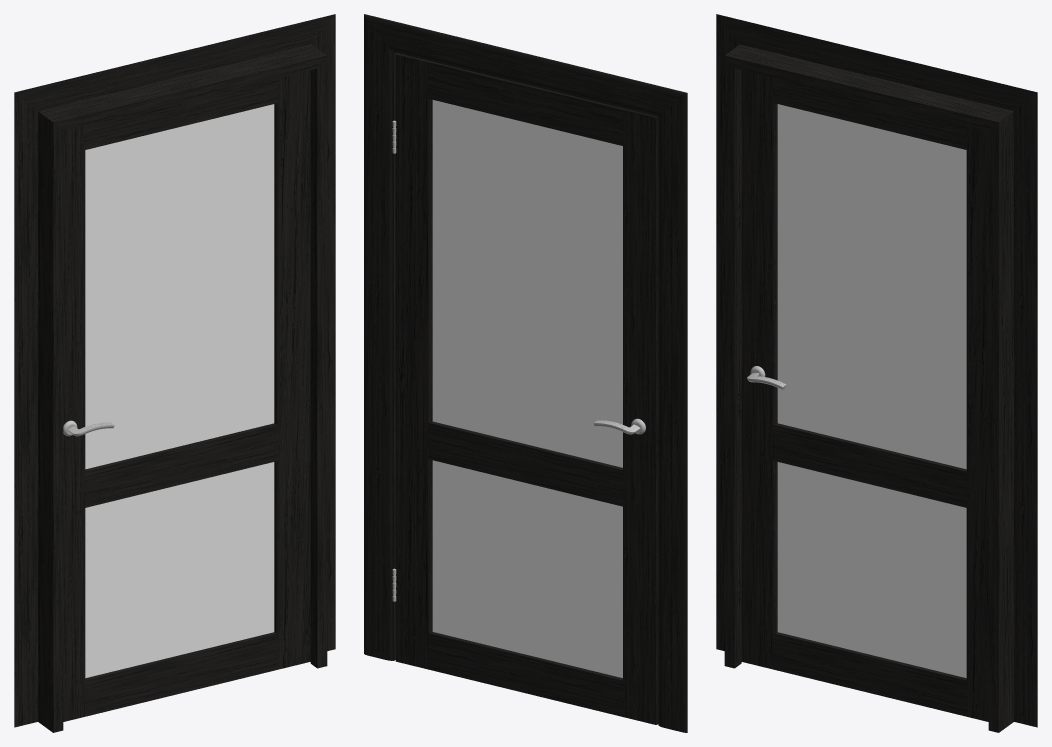
File: profile5Draco.gltf
The picture shows the model from 3 angles, left to right: view 1: azimuth 30°, elevation 25°; view 2: azimuth 150°, elevation 25°; view 3: azimuth 330°, elevation 25°; orthographic projection.
Parts seen in each view (by area): view 1: vstavka, ramaVert, polotnoVert, vstavkaNiz, polotnoGorizont, ramaGorizont; view 2: vstavka, polotnoVert, ramaVert, vstavkaNiz, polotnoGorizont, ramaGorizont; view 3: vstavka, ramaVert, polotnoVert, vstavkaNiz, polotnoGorizont, ramaGorizont.
Boxes of the visible parts, x1,y1,x2,y2 form: vstavka: (85, 104, 274, 469); ramaVert: (14, 14, 335, 732); polotnoVert: (63, 70, 310, 721); vstavkaNiz: (85, 462, 274, 678); polotnoGorizont: (84, 78, 279, 716); ramaGorizont: (15, 14, 335, 130); vstavka: (432, 100, 622, 467); polotnoVert: (395, 53, 658, 724); ramaVert: (364, 14, 687, 732); vstavkaNiz: (432, 460, 622, 677); polotnoGorizont: (427, 61, 624, 717); ramaGorizont: (364, 14, 687, 116); vstavka: (777, 104, 966, 469); ramaVert: (716, 14, 1037, 732); polotnoVert: (741, 70, 988, 721); vstavkaNiz: (777, 462, 966, 677); polotnoGorizont: (772, 78, 967, 716); ramaGorizont: (716, 14, 1036, 130).
Size of the model in its own units: 1.12 by 2.11 by 0.1633.
3 materials, 1 textured.
